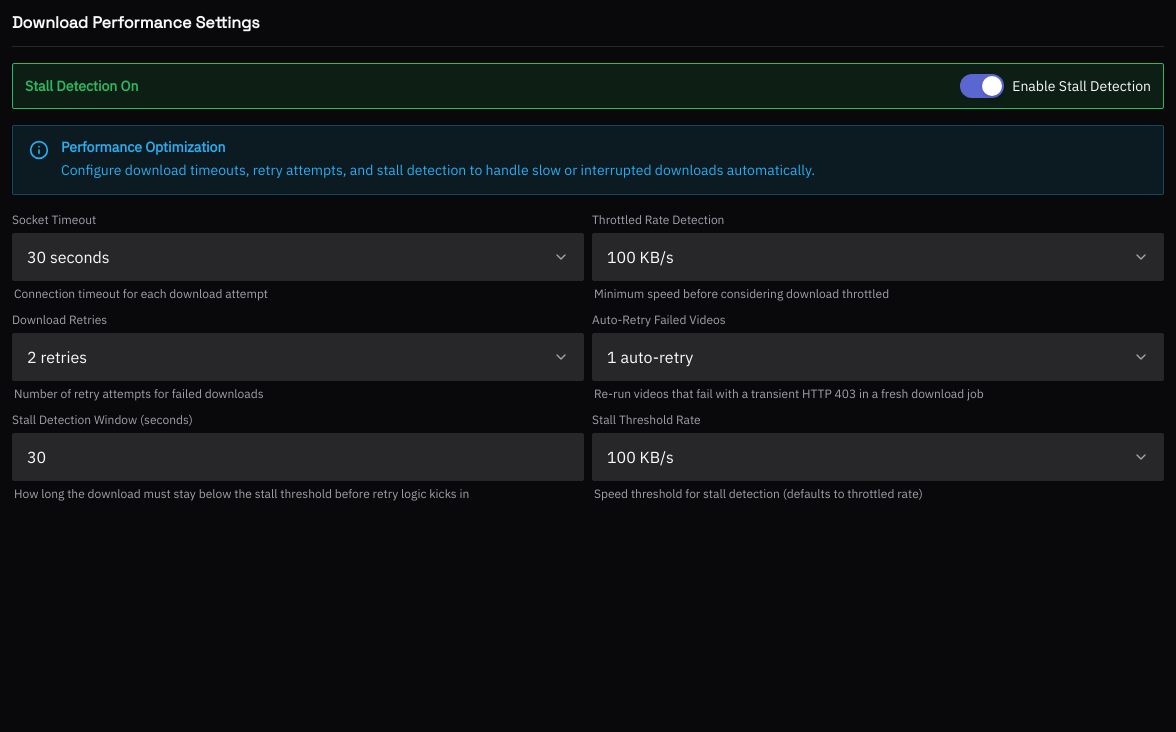
Test: DownloadPerformanceSection Component › Socket Timeout Select › displays all timeout options
Step 1. Click the button "30 seconds" → (68, 257), box [12,233,584,281]
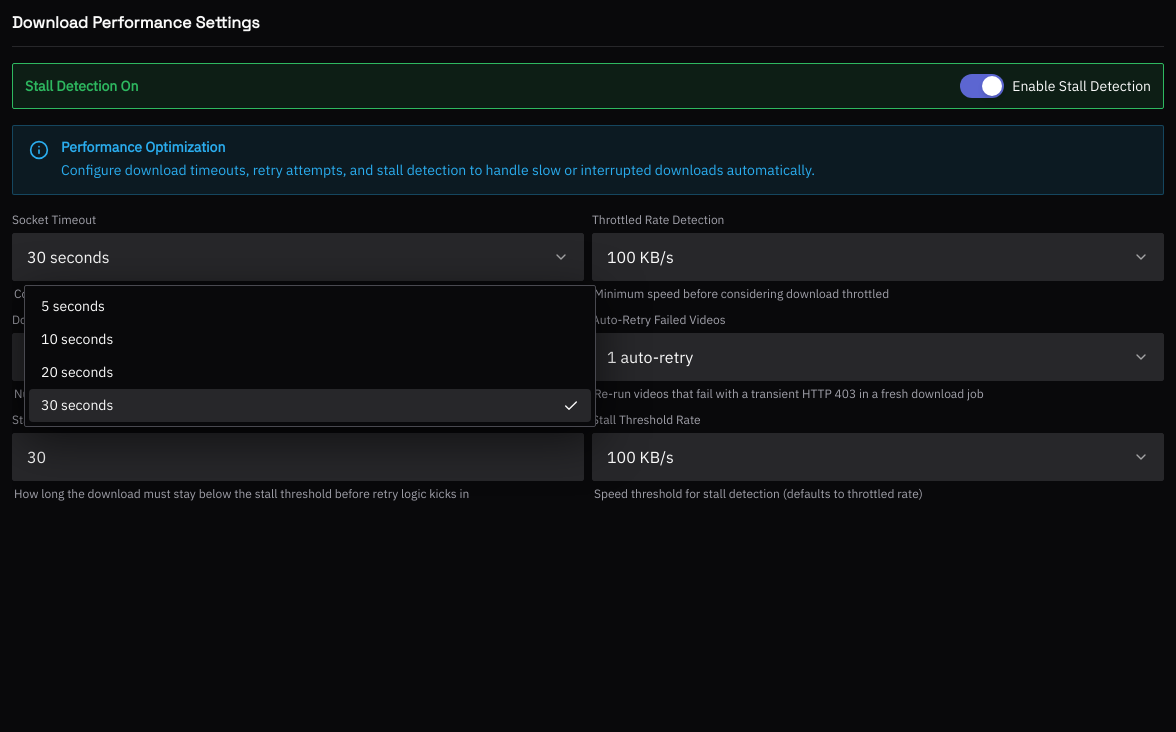
Expected: the option "5 seconds" is shown, [41,297,105,315]
Expected: the option "10 seconds" is shown, [41,330,113,348]
Expected: the option "20 seconds" is shown, [41,363,113,381]
